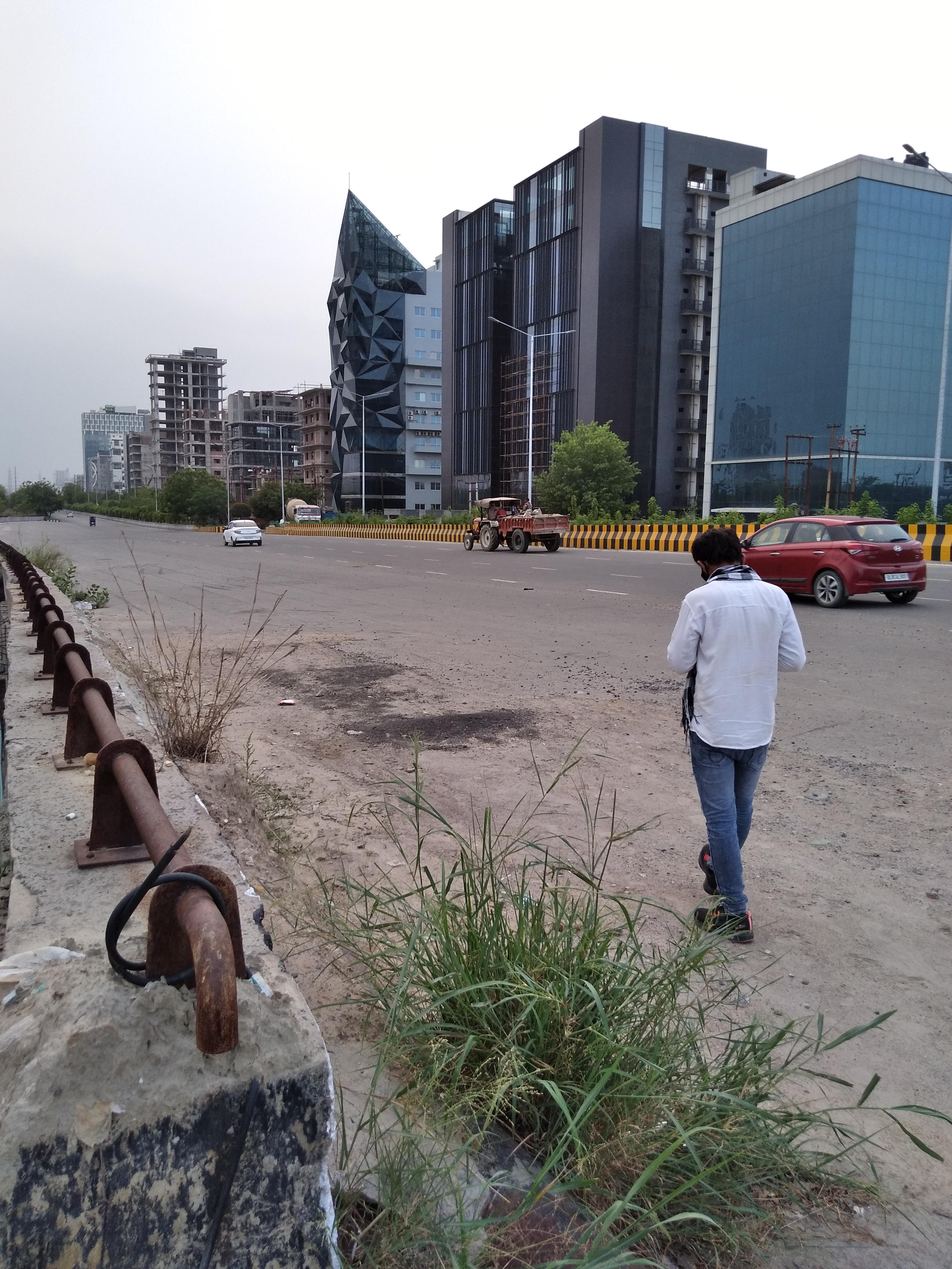Non-emergency: (437, 466, 586, 569)
